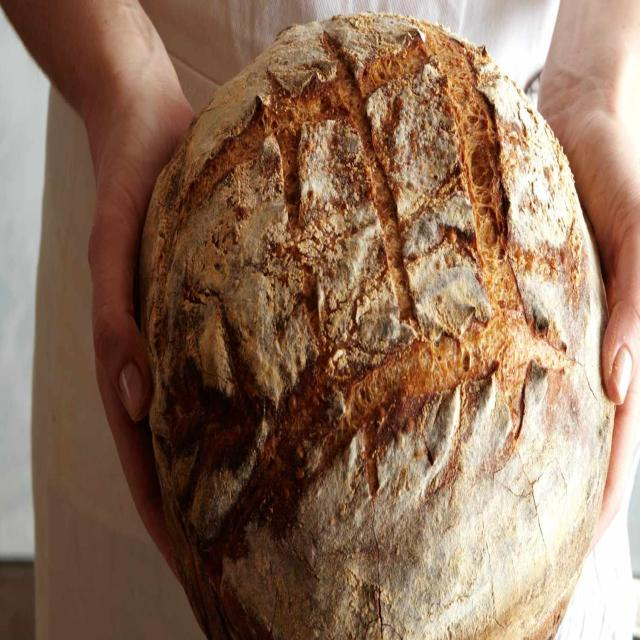Maltese-Bread: (139, 14, 614, 639)
